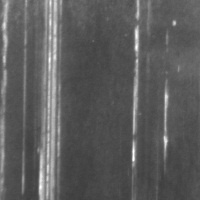scratches: (36, 0, 67, 199), (126, 0, 144, 174), (158, 75, 174, 168)
